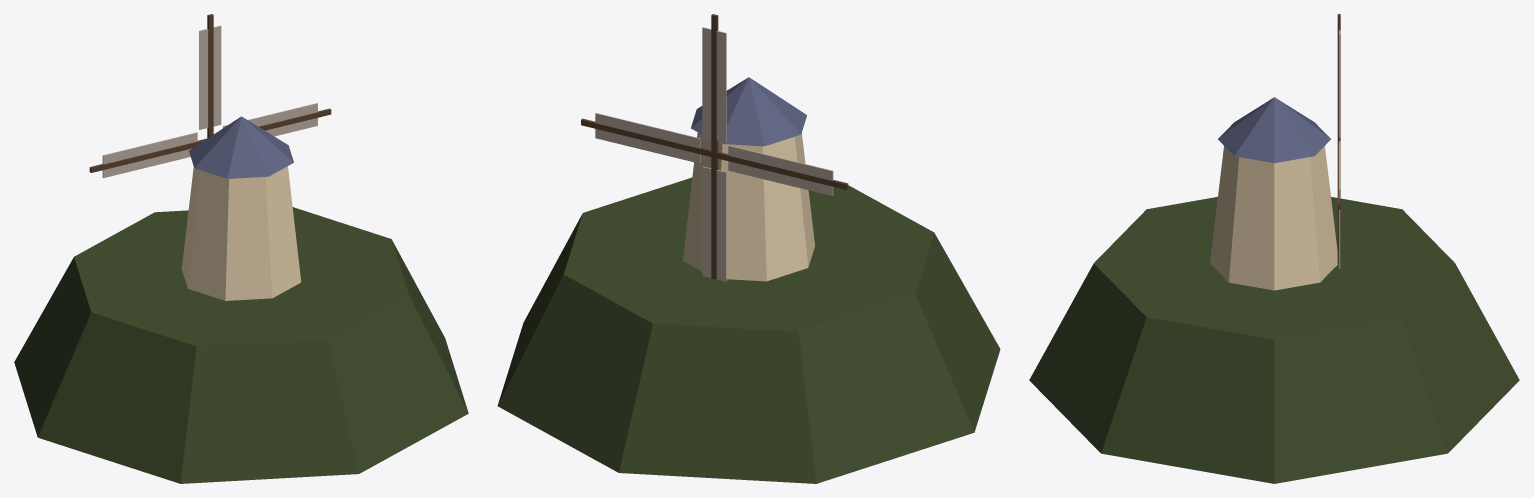
Rendered from moulin_galette.glb.
The picture shows the model from 3 angles, left to right: view 1: azimuth 30°, elevation 25°; view 2: azimuth 150°, elevation 25°; view 3: azimuth 270°, elevation 25°; orthographic projection. The views are drawn at different scales.
Parts seen in each view (by area): view 1: moulin_galette; view 2: moulin_galette; view 3: moulin_galette.
Boxes of the visible parts, <box> form: moulin_galette: <box>14,14,468,483</box>; moulin_galette: <box>497,14,1000,483</box>; moulin_galette: <box>1029,14,1519,483</box>.
Bounding box in the file's own units: 19 × 15.6 × 19.
